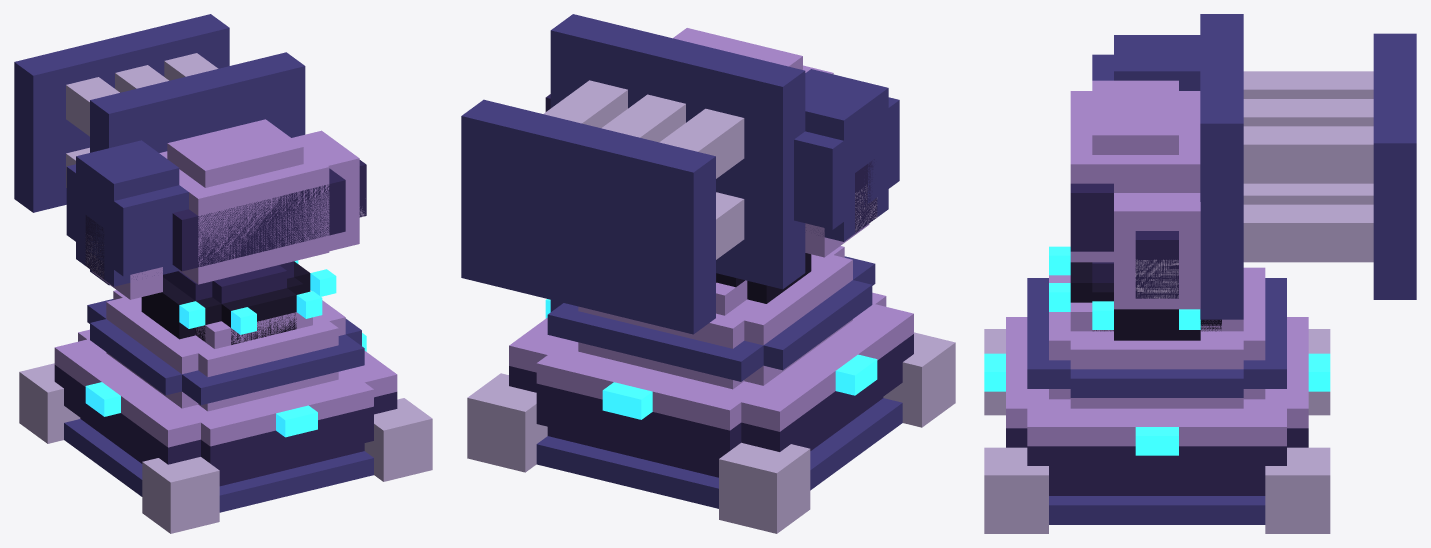
The model's file is flak-cannon.sm.glb.
3 views of the same model, side by side, from view 1: azimuth 30°, elevation 25°; view 2: azimuth 150°, elevation 25°; view 3: azimuth 270°, elevation 25° (orthographic). The views are drawn at different scales.
Parts seen in each view (by area): view 1: flak-cannon.sm; view 2: flak-cannon.sm; view 3: flak-cannon.sm.
Boxes of the visible parts, x1,y1,x2,y2 form: flak-cannon.sm: (14,14,432,533); flak-cannon.sm: (461,14,955,533); flak-cannon.sm: (984,14,1416,533).
Size of the model in its own units: 1 by 1.25 by 1.25.
